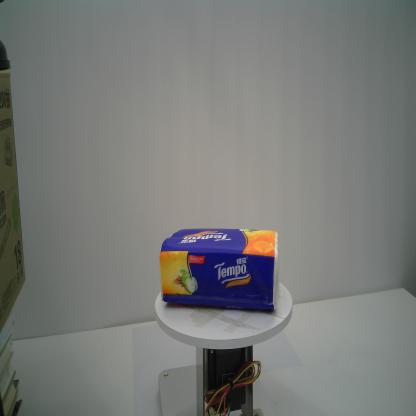Tissue: (159, 227, 279, 312)
